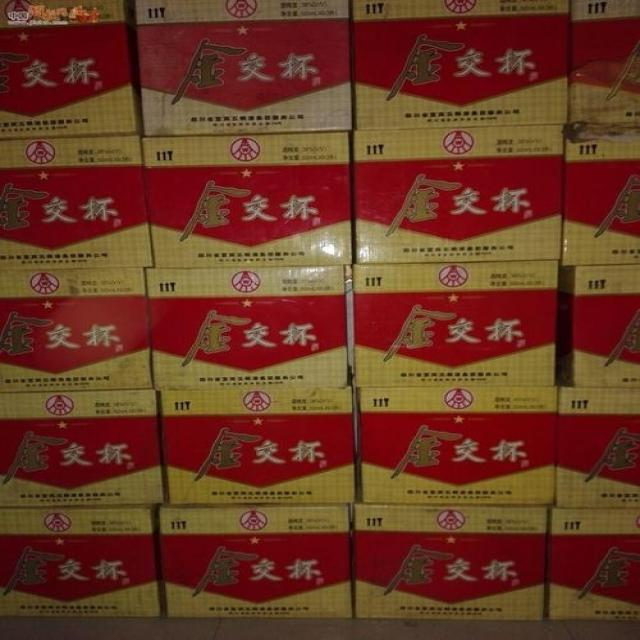box: (349, 124, 564, 265), (129, 0, 353, 133), (142, 132, 356, 266), (351, 1, 571, 131), (354, 261, 559, 389), (147, 265, 349, 388), (153, 386, 359, 505), (357, 384, 555, 505), (353, 505, 551, 618), (158, 508, 353, 615), (0, 0, 140, 137), (561, 116, 639, 267), (545, 506, 639, 618), (555, 383, 639, 508), (566, 263, 639, 386), (567, 1, 639, 123)
